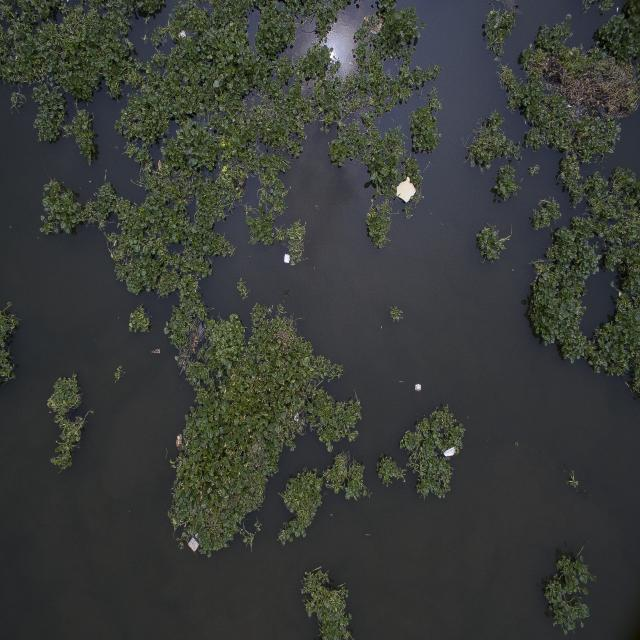plastic: (184, 528, 210, 565), (393, 178, 421, 208), (438, 436, 463, 464), (276, 248, 296, 272), (174, 30, 196, 49), (414, 373, 428, 399)
